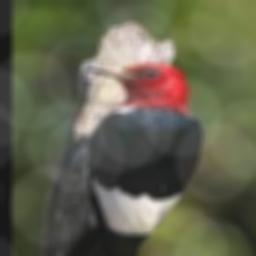Woodpecker: (69, 63, 207, 256)
